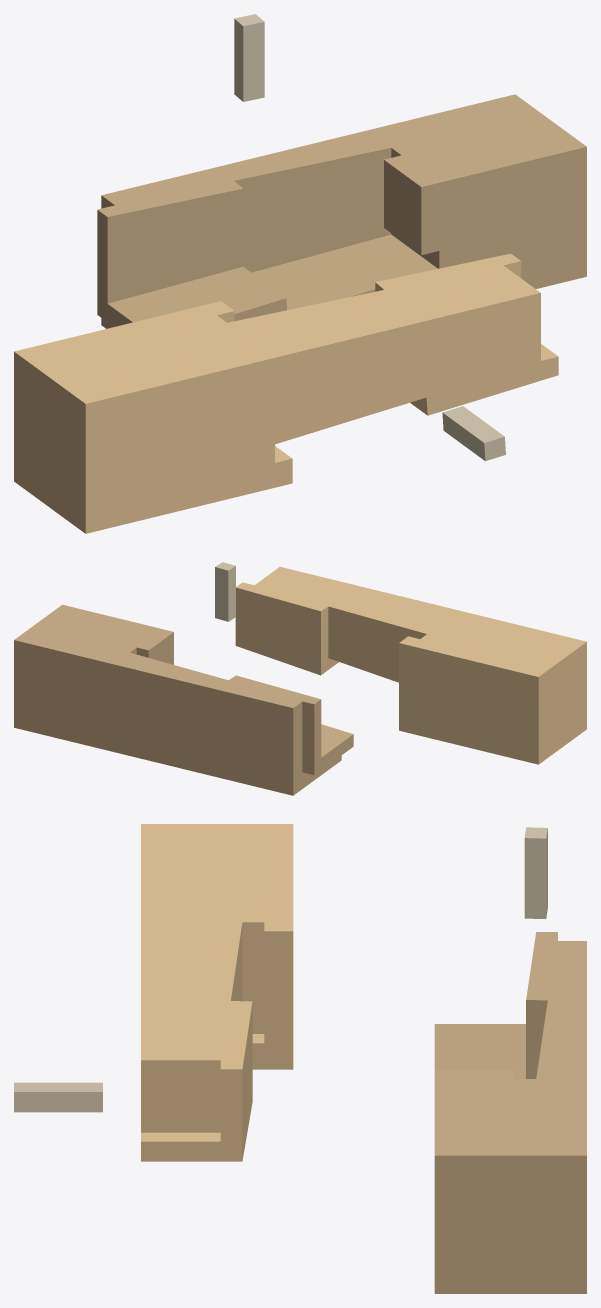
The picture shows the model from 3 angles, top to bottom: view 1: azimuth 30°, elevation 25°; view 2: azimuth 150°, elevation 25°; view 3: azimuth 270°, elevation 25°; orthographic projection. The views are drawn at different scales.
Size of the model in its own units: 0.36 by 0.1572 by 0.2629.
